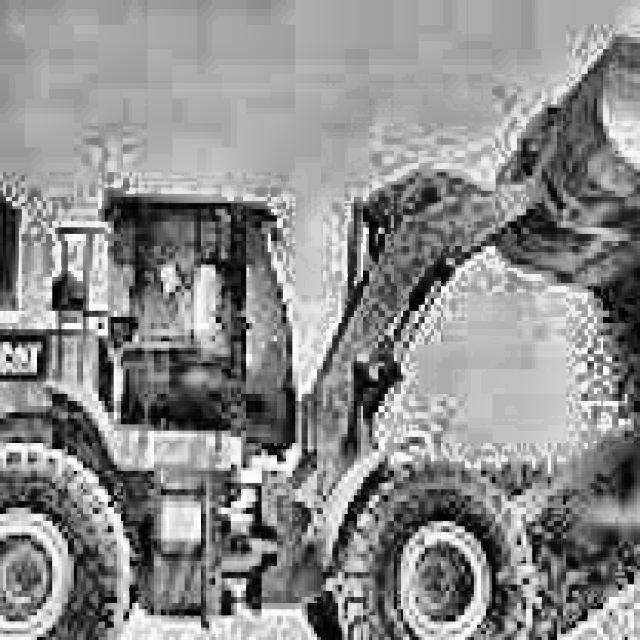buldozerpayloadergrader: (0, 141, 566, 640)
